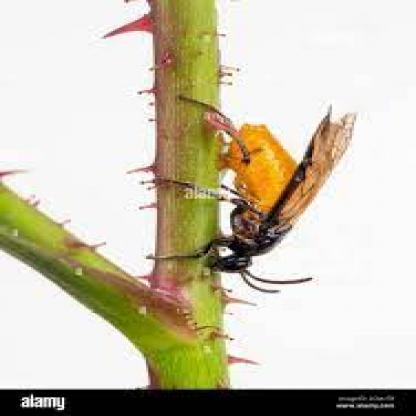sawfly: (150, 92, 354, 300)
